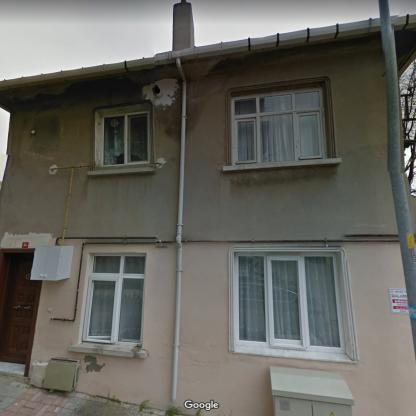door: (0, 257, 37, 361)
window: (236, 255, 343, 352), (231, 89, 325, 164), (85, 255, 146, 345), (100, 109, 151, 165)
